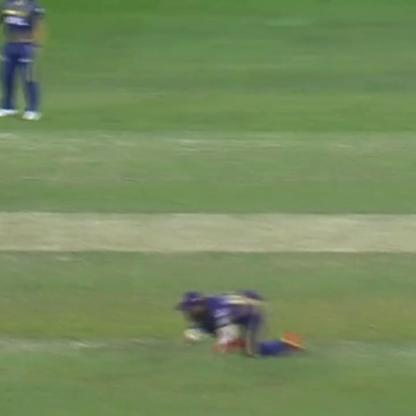ball: (181, 328, 199, 345)
